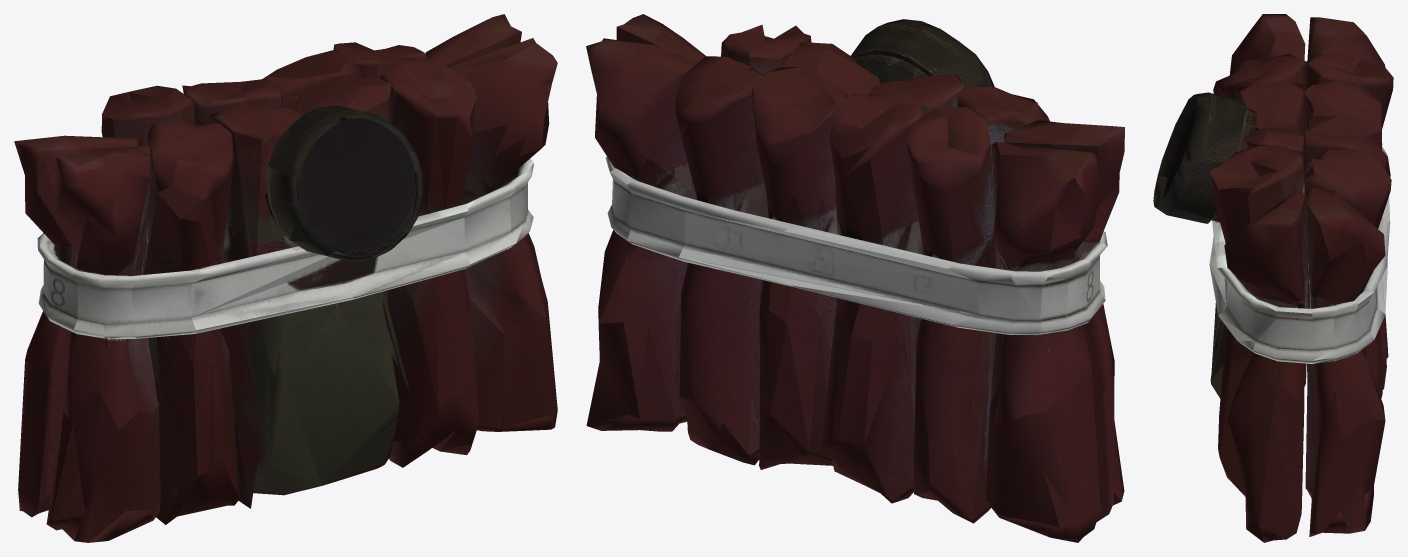
Rendered from explosives.glb.
The picture shows the model from 3 angles, left to right: view 1: azimuth 30°, elevation 25°; view 2: azimuth 150°, elevation 25°; view 3: azimuth 270°, elevation 25°; orthographic projection. The views are drawn at different scales.
Size of the model in its own units: 1 by 0.7773 by 0.4941.
1 material, 1 textured.
